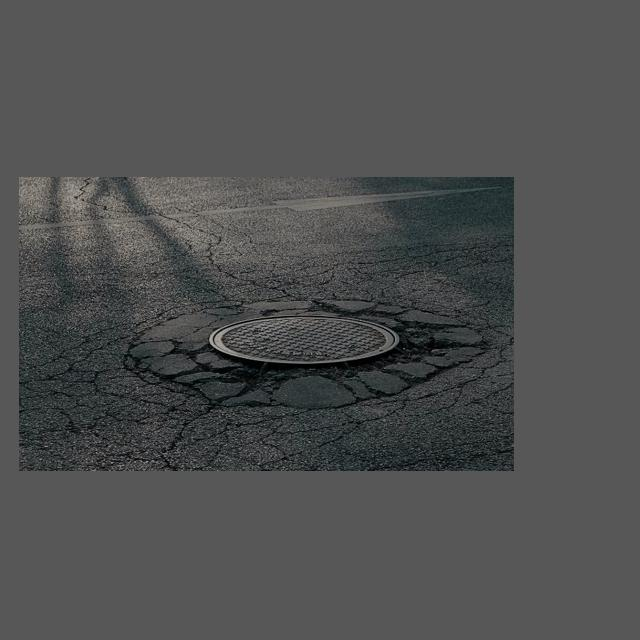circle: (121, 285, 467, 421)
